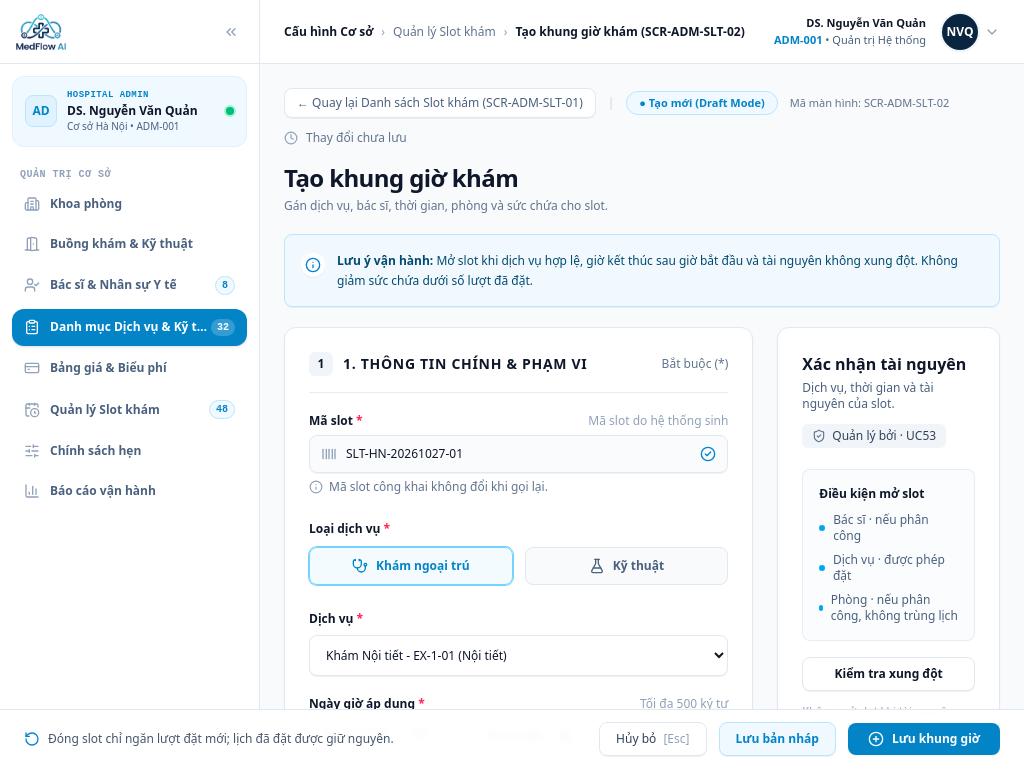
Scenario: ExaminationSlotCreatePage (SCR-ADM-SLT-02) › allows manual draft saving into store
Click the button "Lưu bản nháp".
click(777, 739)  # box [718,722,836,756]
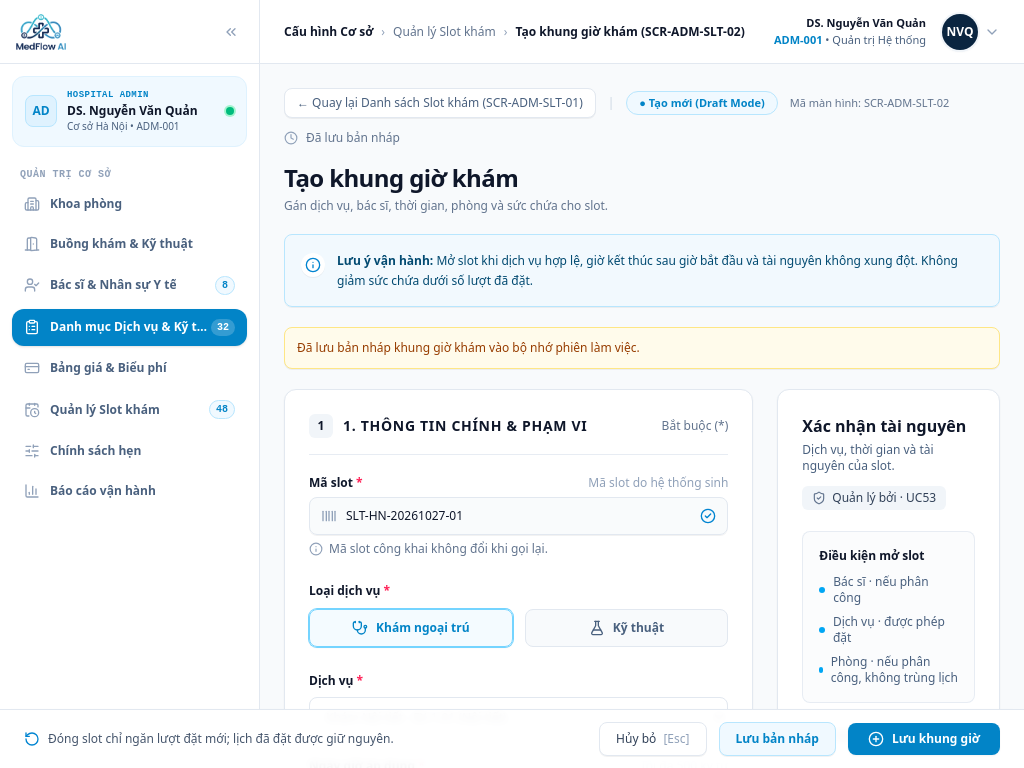
Expected: the text "Đã lưu bản nháp khung giờ khám vào bộ nhớ phiên làm việc." is shown, [284,327,1000,369]
